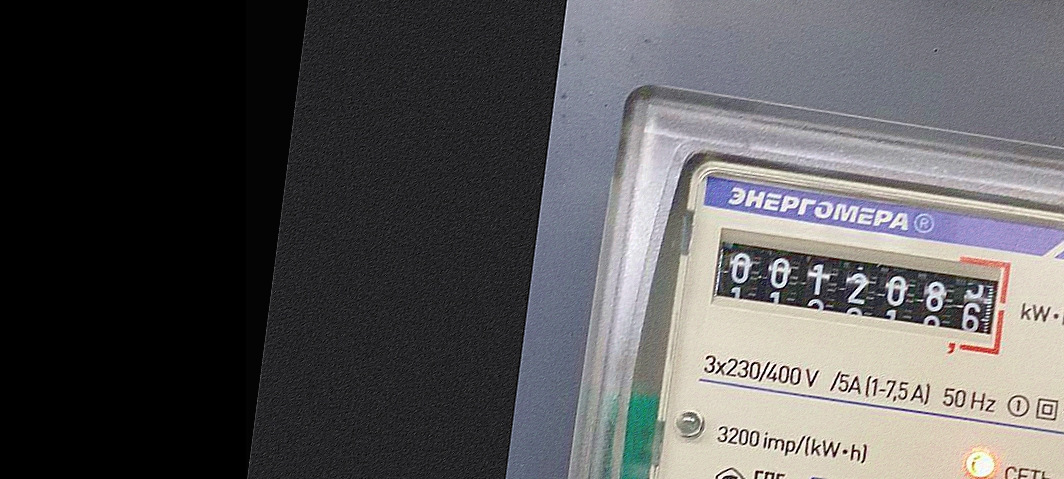0: (766, 254, 794, 294), (882, 273, 911, 311), (728, 249, 753, 289)
1: (806, 261, 828, 300)
2: (843, 271, 873, 309)
6: (957, 299, 984, 336)
8: (920, 279, 948, 318)
screen: (697, 216, 1022, 373)
